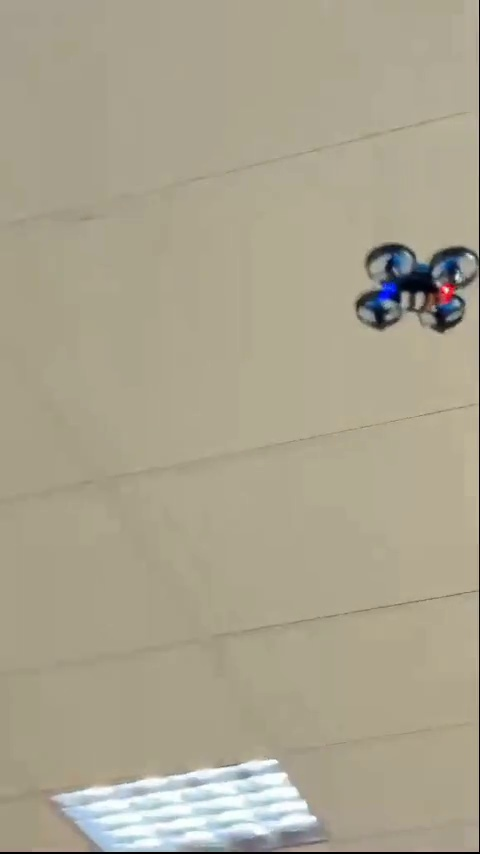drone: (358, 243, 475, 331)
